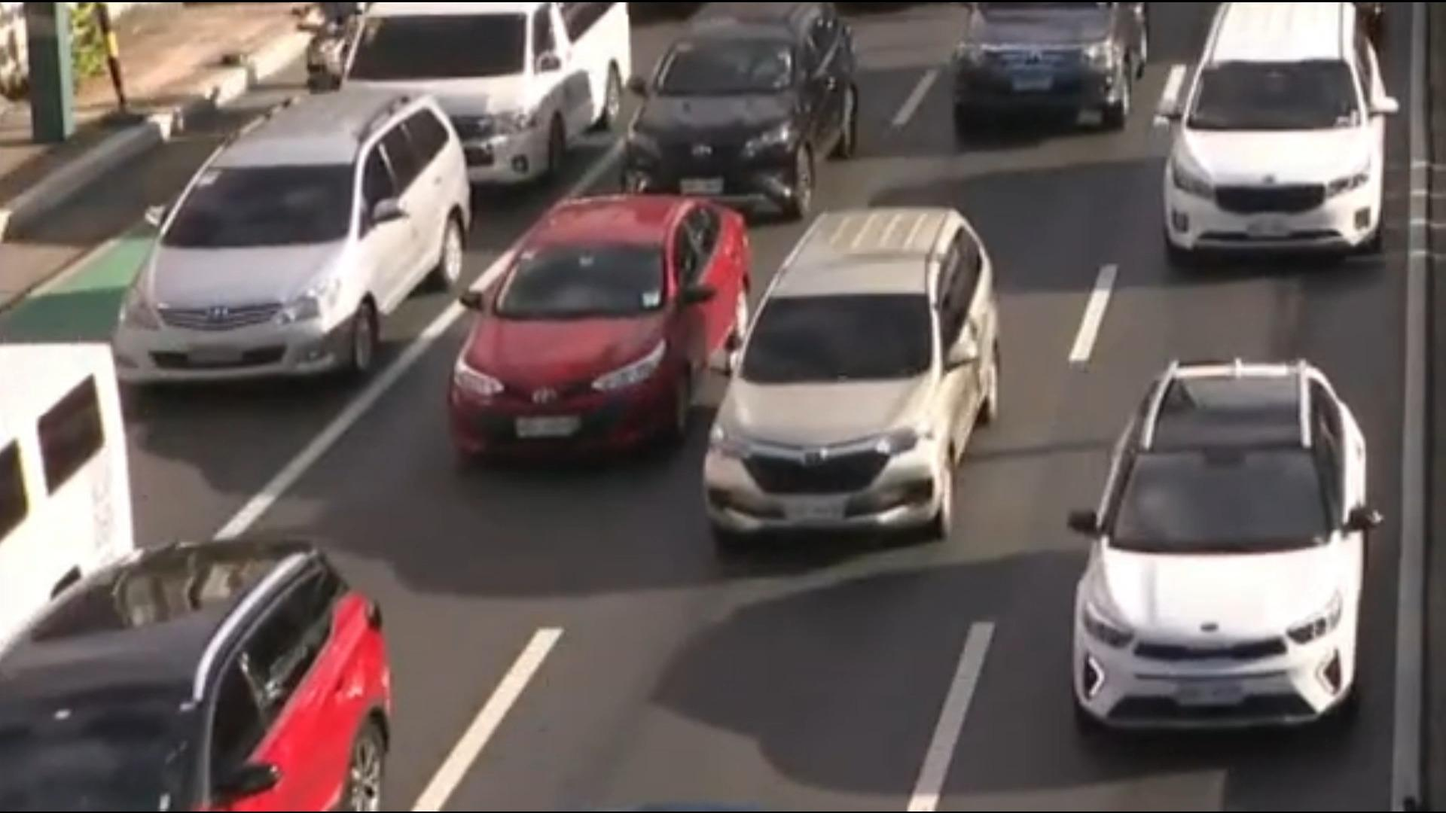Multicab: (0, 335, 126, 647)
SUV: (1069, 350, 1361, 730), (0, 538, 397, 813), (109, 98, 469, 395), (712, 203, 1002, 534), (1167, 4, 1382, 254), (633, 0, 862, 220), (940, 0, 1154, 139)
Sedan: (446, 203, 747, 452)
Van: (337, 0, 635, 188)
